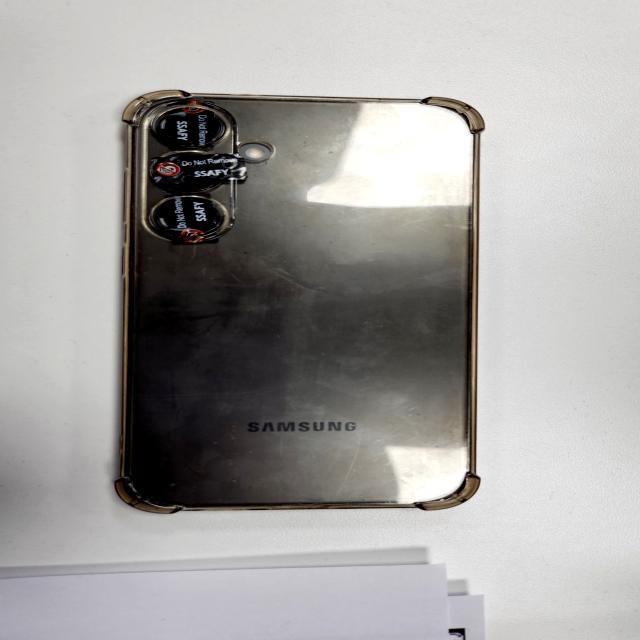removed_sticker: (150, 153, 247, 182)
sticker: (121, 89, 484, 512), (164, 195, 217, 240), (168, 104, 214, 150)
